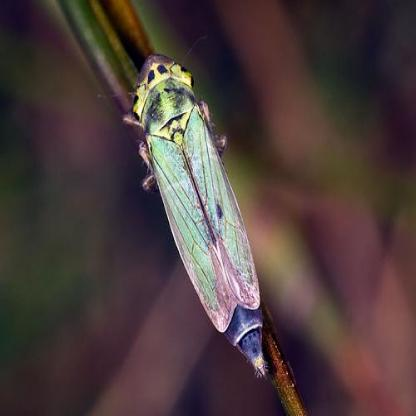Green-Leafhopper: (119, 50, 270, 379)
